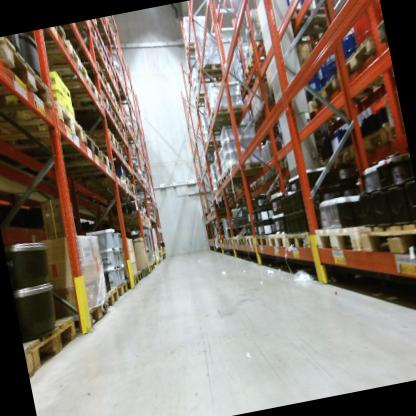pallet: (0, 92, 89, 166), (325, 28, 394, 107), (0, 31, 56, 119), (25, 312, 89, 383), (308, 205, 377, 265), (28, 33, 92, 96), (270, 0, 344, 51), (356, 211, 416, 270), (9, 127, 99, 166), (52, 143, 117, 186), (51, 69, 108, 118), (246, 30, 309, 71), (303, 68, 356, 110), (313, 138, 363, 181), (63, 291, 112, 332), (248, 97, 296, 138), (279, 217, 320, 263), (218, 156, 271, 189), (345, 124, 391, 162), (76, 179, 140, 206), (191, 56, 232, 97), (233, 64, 283, 96), (204, 110, 253, 142), (239, 50, 282, 84), (65, 33, 107, 64), (207, 97, 246, 127), (56, 20, 97, 48), (22, 332, 43, 385), (264, 221, 289, 260), (371, 0, 389, 52), (190, 87, 224, 114), (89, 123, 119, 153), (25, 26, 66, 47), (182, 36, 217, 60), (381, 112, 406, 145), (98, 279, 122, 312), (101, 96, 121, 131), (196, 134, 227, 155), (108, 276, 133, 302), (87, 17, 111, 44), (210, 182, 243, 201), (112, 75, 133, 104), (100, 81, 122, 108), (273, 155, 291, 185), (252, 227, 273, 252), (264, 161, 284, 187), (112, 138, 130, 163), (100, 59, 117, 84), (114, 171, 134, 192), (210, 204, 237, 219), (110, 101, 126, 126), (93, 61, 109, 86), (249, 179, 268, 200), (121, 272, 141, 291), (130, 268, 145, 291), (121, 102, 133, 129), (213, 176, 226, 194), (244, 228, 256, 247), (201, 158, 216, 170), (236, 232, 247, 246), (125, 129, 136, 142), (146, 262, 157, 274), (152, 256, 163, 268), (117, 123, 126, 137), (142, 266, 151, 278), (231, 233, 239, 246), (227, 236, 234, 249), (222, 239, 229, 247), (216, 233, 223, 241), (217, 239, 223, 247)
